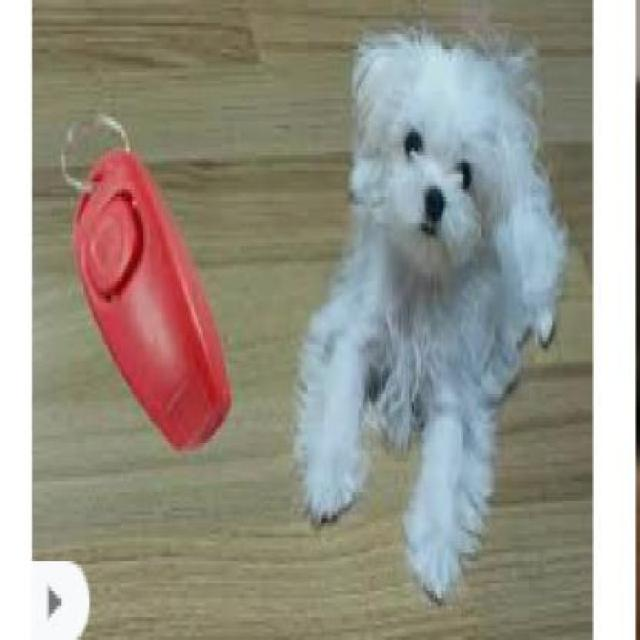Dog: (290, 8, 572, 612)
